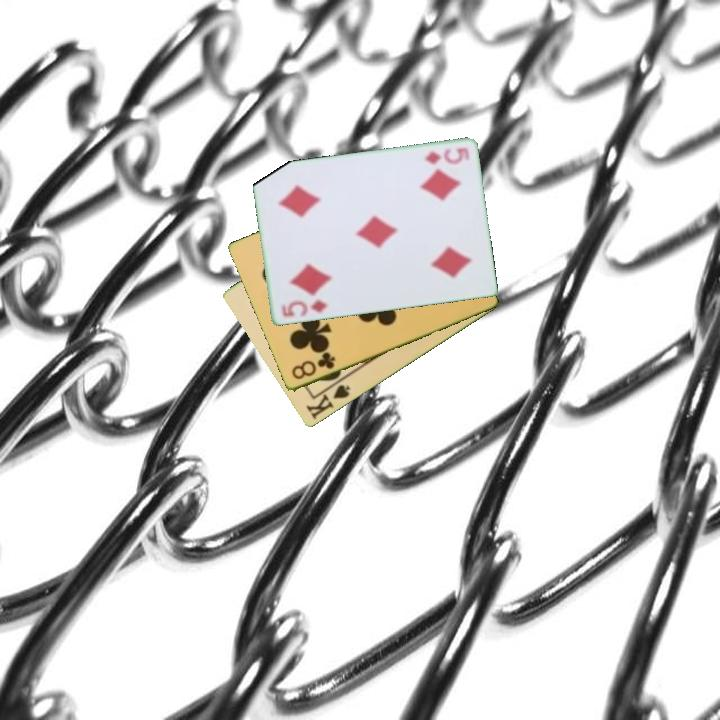5d: (278, 296, 330, 320), (421, 144, 472, 168)
8c: (288, 349, 338, 383)
Ks: (302, 375, 353, 423)
